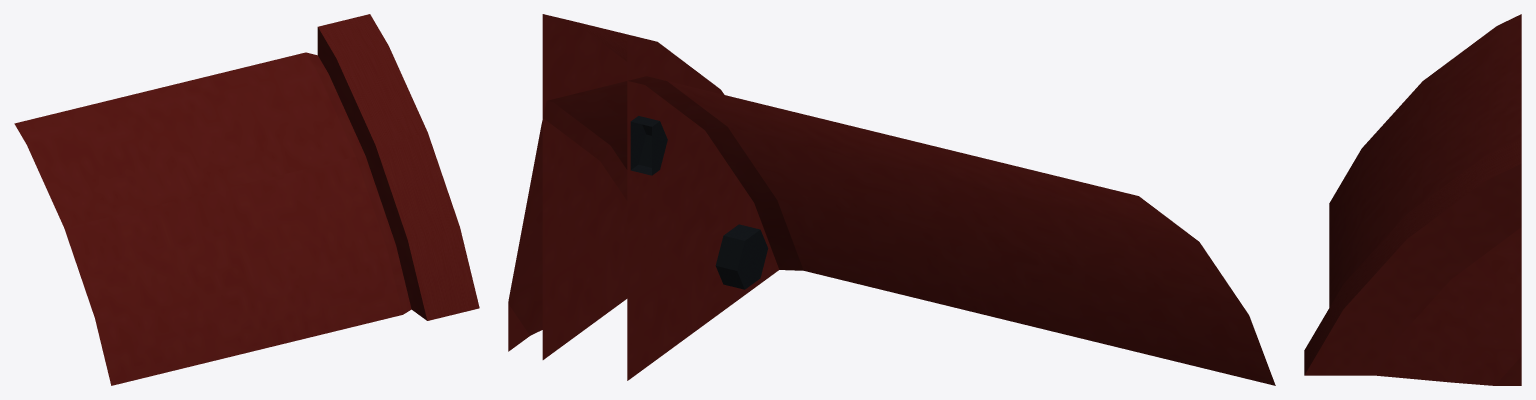
Rendered from cell_66.obj.
The picture shows the model from 3 angles, left to right: view 1: azimuth 30°, elevation 25°; view 2: azimuth 150°, elevation 25°; view 3: azimuth 270°, elevation 25°; orthographic projection. The views are drawn at different scales.
Parts seen in each view (by area): view 1: cell_66; view 2: cell_66; view 3: cell_66.
Boxes of the visible parts, left/top/right/bottom form: cell_66: left=14, top=14, right=479, bottom=385; cell_66: left=508, top=14, right=1275, bottom=385; cell_66: left=1304, top=14, right=1521, bottom=385.
Bounding box in the file's own units: 0.8725 × 0.4732 × 0.4392.
